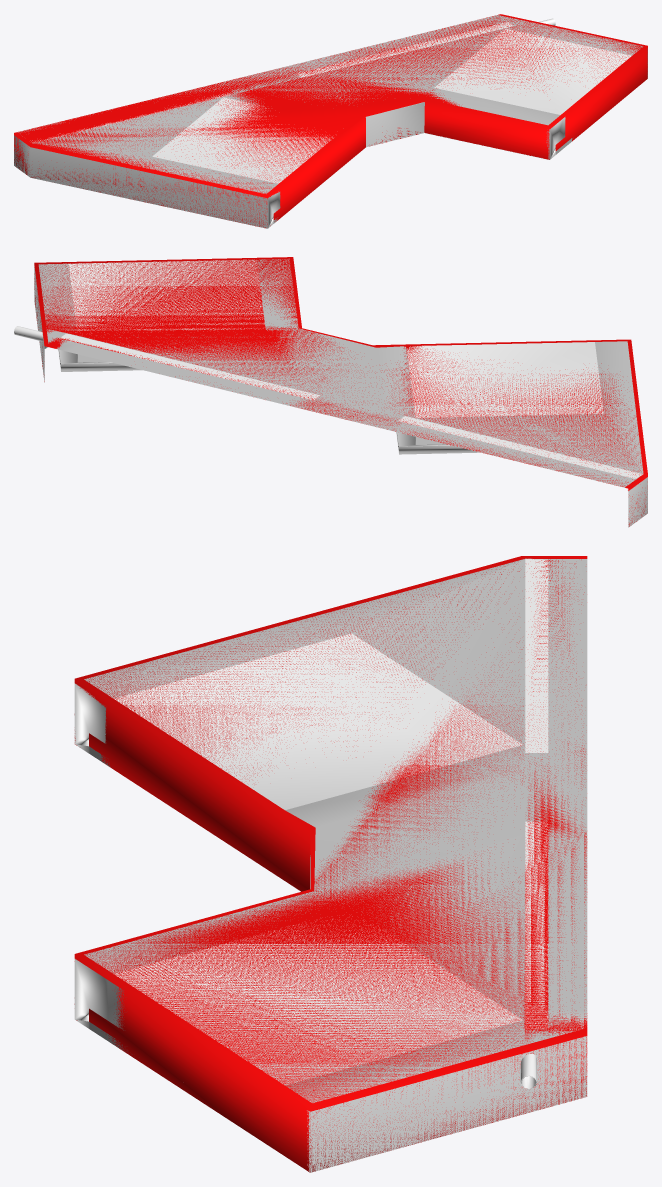
The model's file is lkw_rampe_0001.fbx.
The picture shows the model from 3 angles, top to bottom: view 1: azimuth 30°, elevation 25°; view 2: azimuth 150°, elevation 25°; view 3: azimuth 270°, elevation 25°; orthographic projection. The views are drawn at different scales.
Parts seen in each view (by area): view 1: lkw_rampe, colmesh; view 2: lkw_rampe, colmesh; view 3: lkw_rampe, colmesh.
Part boxes in pixels (x1,y1,x2,y2): lkw_rampe: [14, 15, 647, 228]; colmesh: [14, 14, 647, 228]; lkw_rampe: [14, 258, 647, 527]; colmesh: [34, 257, 647, 526]; lkw_rampe: [74, 558, 587, 1172]; colmesh: [74, 556, 587, 1172].
Bounding box in the file's own units: 1080 × 60 × 425.
